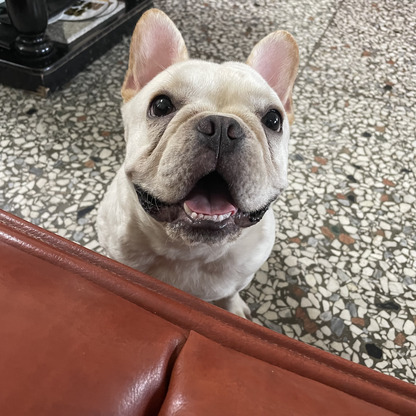bulldog: (93, 6, 302, 322)
